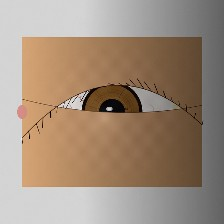pinguecula_lesion: (163, 90, 204, 123)
